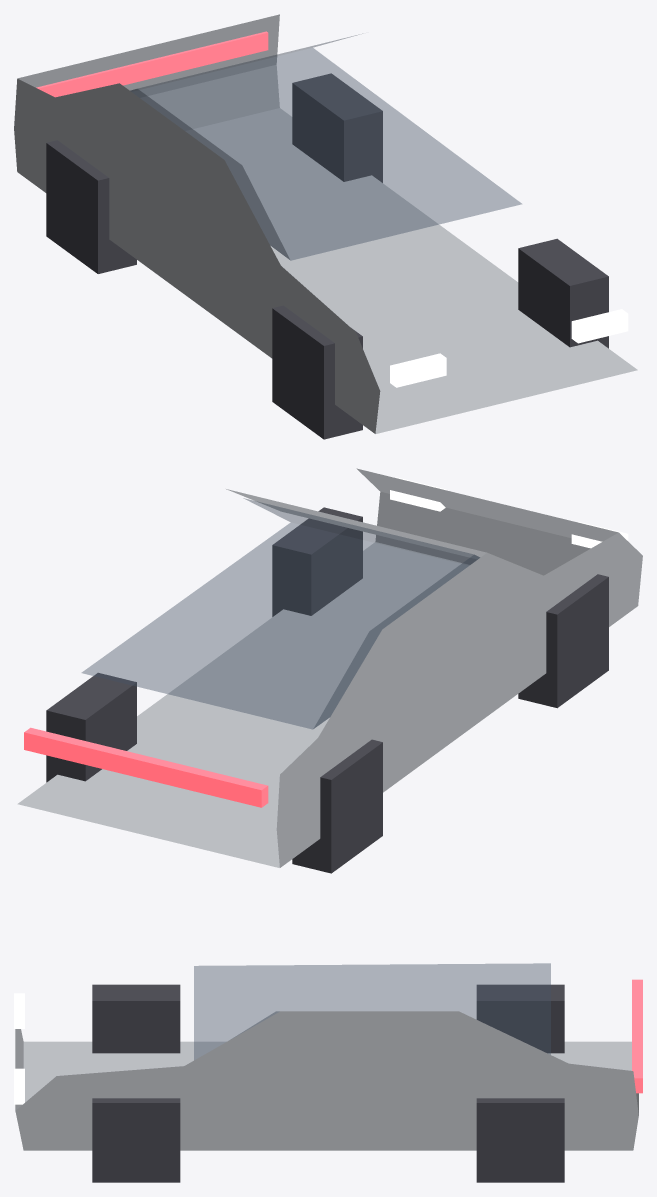
Rendered from mercy.glb.
3 renders of one model, top to bottom at view 1: azimuth 30°, elevation 25°; view 2: azimuth 150°, elevation 25°; view 3: azimuth 270°, elevation 25°, orthographic. The views are drawn at different scales.
Visible parts, largest first — view 1: sedan_body, cabin_glass, wheel_3, wheel_2, wheel_0, wheel_1, taillight, headlight_R, headlight_L; view 2: sedan_body, cabin_glass, wheel_1, wheel_0, wheel_2, wheel_3, taillight, headlight_R; view 3: sedan_body, cabin_glass, wheel_1, wheel_3, wheel_0, wheel_2, taillight.
Boxes of the visible parts, left/top/right/bottom form: sedan_body: left=14, top=14, right=637, bottom=434; cabin_glass: left=130, top=35, right=521, bottom=260; wheel_3: left=292, top=73, right=382, bottom=182; wheel_2: left=46, top=140, right=136, bottom=273; wheel_0: left=272, top=305, right=362, bottom=439; wheel_1: left=518, top=238, right=608, bottom=348; taillight: left=36, top=31, right=268, bottom=97; headlight_R: left=571, top=309, right=628, bottom=343; headlight_L: left=390, top=353, right=446, bottom=387; sedan_body: left=17, top=468, right=642, bottom=867; cabin_glass: left=82, top=498, right=479, bottom=729; wheel_1: left=272, top=507, right=362, bottom=616; wheel_0: left=518, top=574, right=608, bottom=708; wheel_2: left=292, top=739, right=382, bottom=873; wheel_3: left=46, top=673, right=136, bottom=782; taillight: left=24, top=727, right=268, bottom=807; headlight_R: left=390, top=477, right=446, bottom=511; sedan_body: left=15, top=1011, right=638, bottom=1150; cabin_glass: left=194, top=963, right=550, bottom=1059; wheel_1: left=92, top=1098, right=180, bottom=1182; wheel_3: left=476, top=1098, right=564, bottom=1182; wheel_0: left=92, top=984, right=180, bottom=1053; wheel_2: left=476, top=984, right=564, bottom=1053; taillight: left=632, top=979, right=642, bottom=1093.
Bounding box in the file's own units: 2.04 × 1.34 × 4.58.
